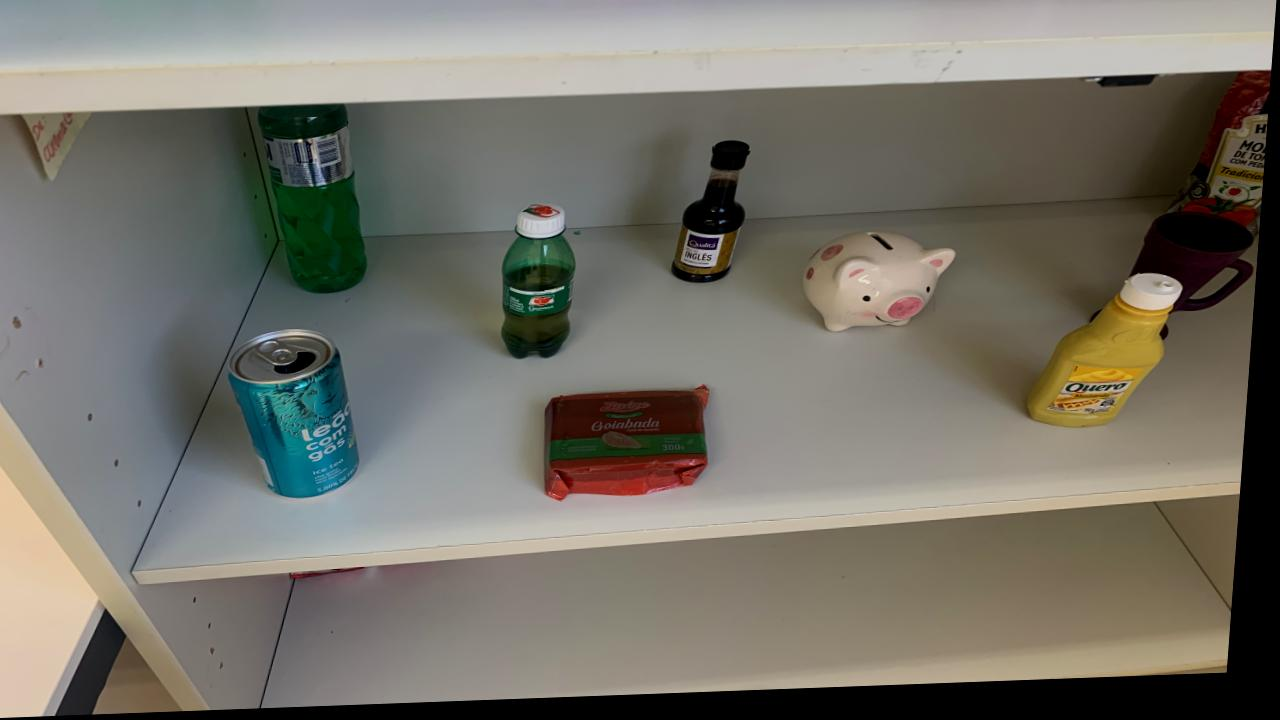Detergent-Cleanup_Items: (260, 106, 372, 296)
English_Sauce-Pantry_Items: (678, 147, 752, 288)
Guarana-Drinks: (506, 208, 581, 363)
Guava-Snacks: (551, 391, 716, 506)
Mustard-Pantry_Items: (1034, 282, 1188, 437)
Pig_Safe-Miscellaneous: (807, 238, 961, 339)
Tea-Drinks: (235, 332, 365, 500)
Tomato_Sauce-Pantry_Items: (1175, 83, 1273, 242)
